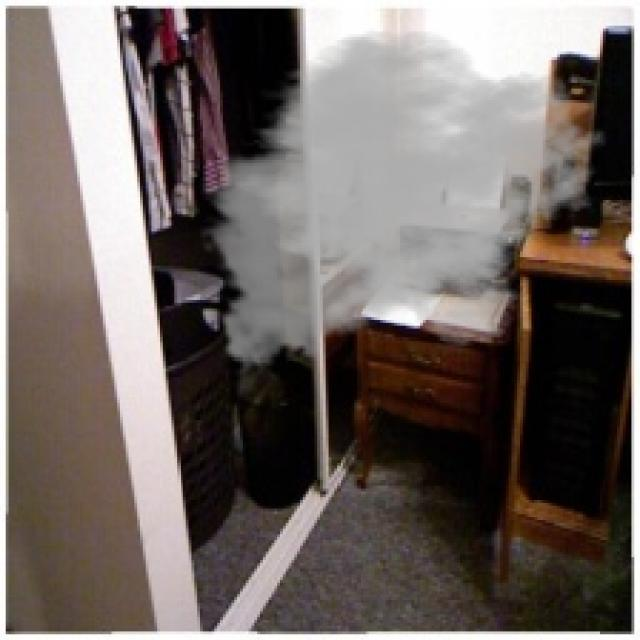Smoke: (197, 28, 609, 383)
